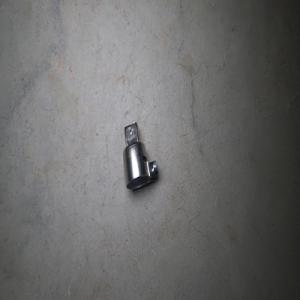MetalPart: (122, 120, 158, 190)
